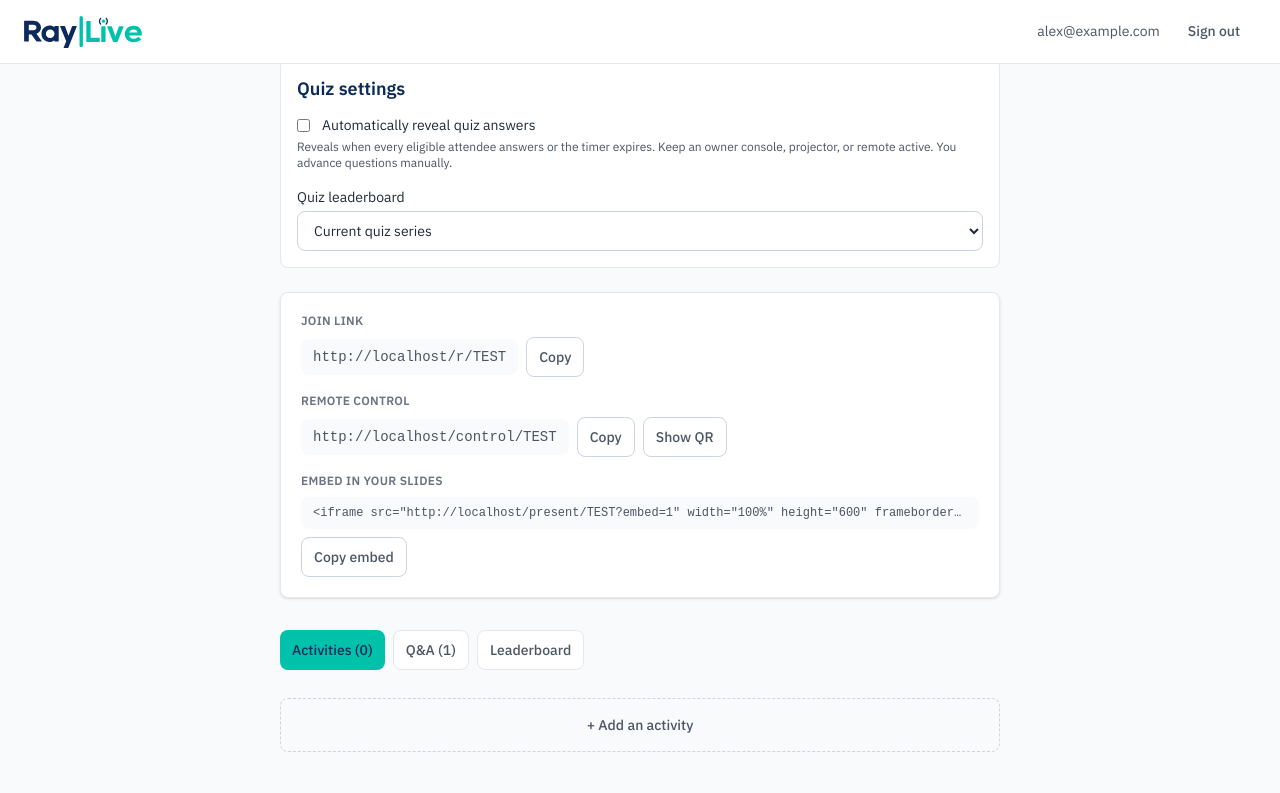
Test case: management shell › confirms Q&A question and vote deletion
(page scrolled)
Click the button "Q&A (1)": (431, 650) [393, 630, 469, 670]
(page scrolled)
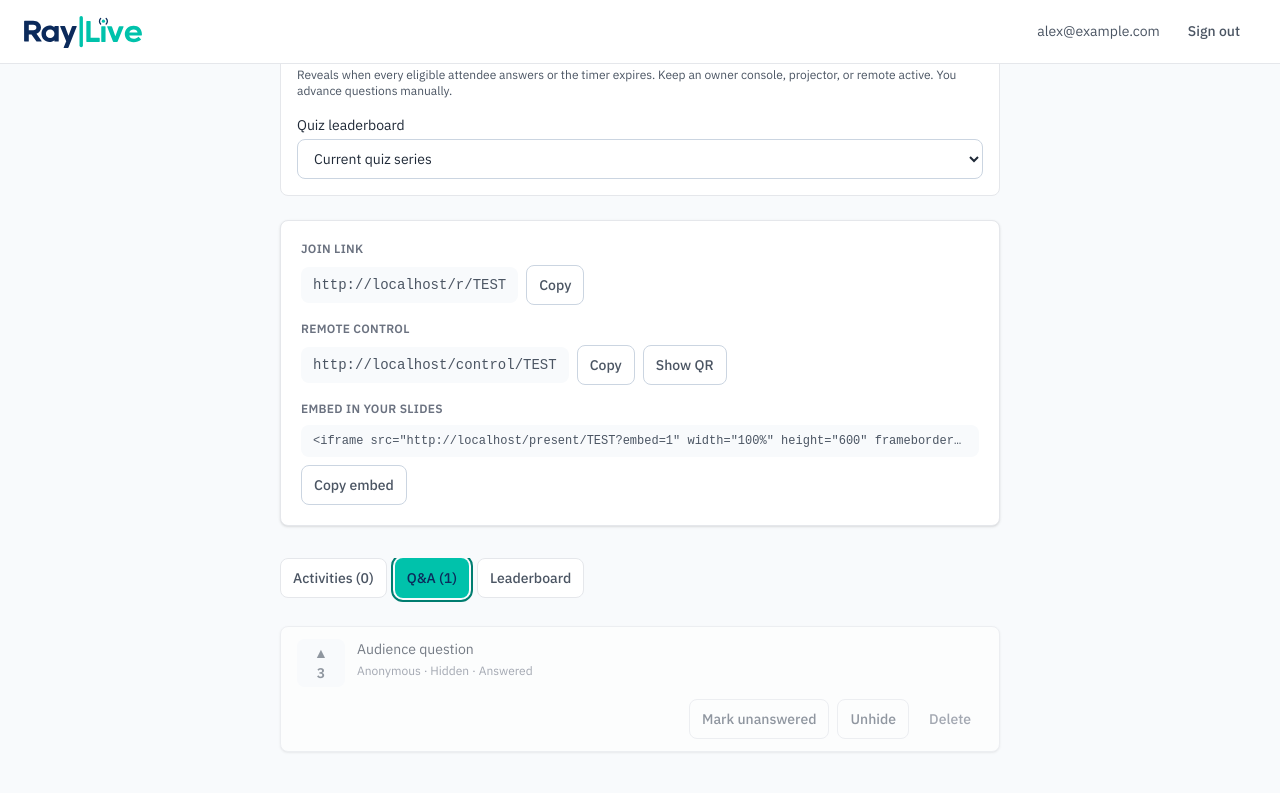
Click the button "Delete": (950, 719) [917, 699, 983, 739]
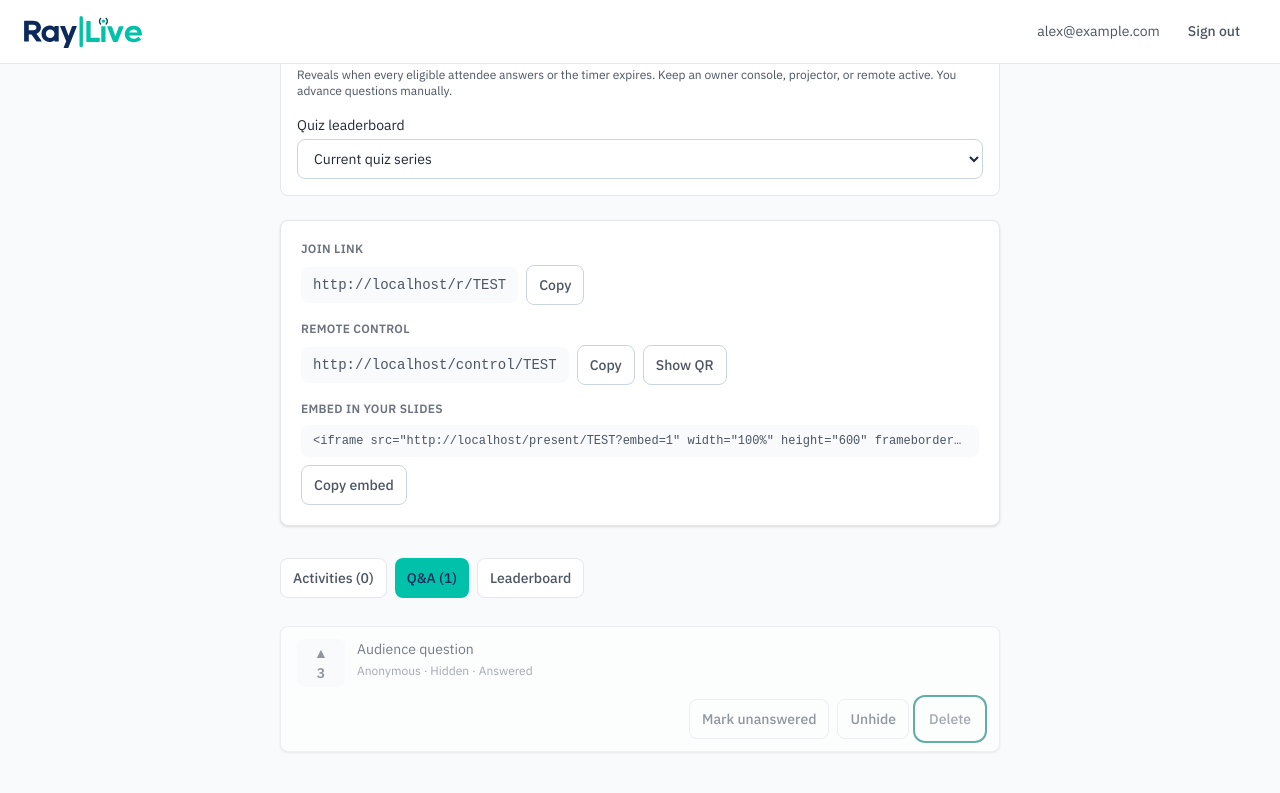
Click the button "Delete": (950, 719) [917, 699, 983, 739]
(page scrolled)
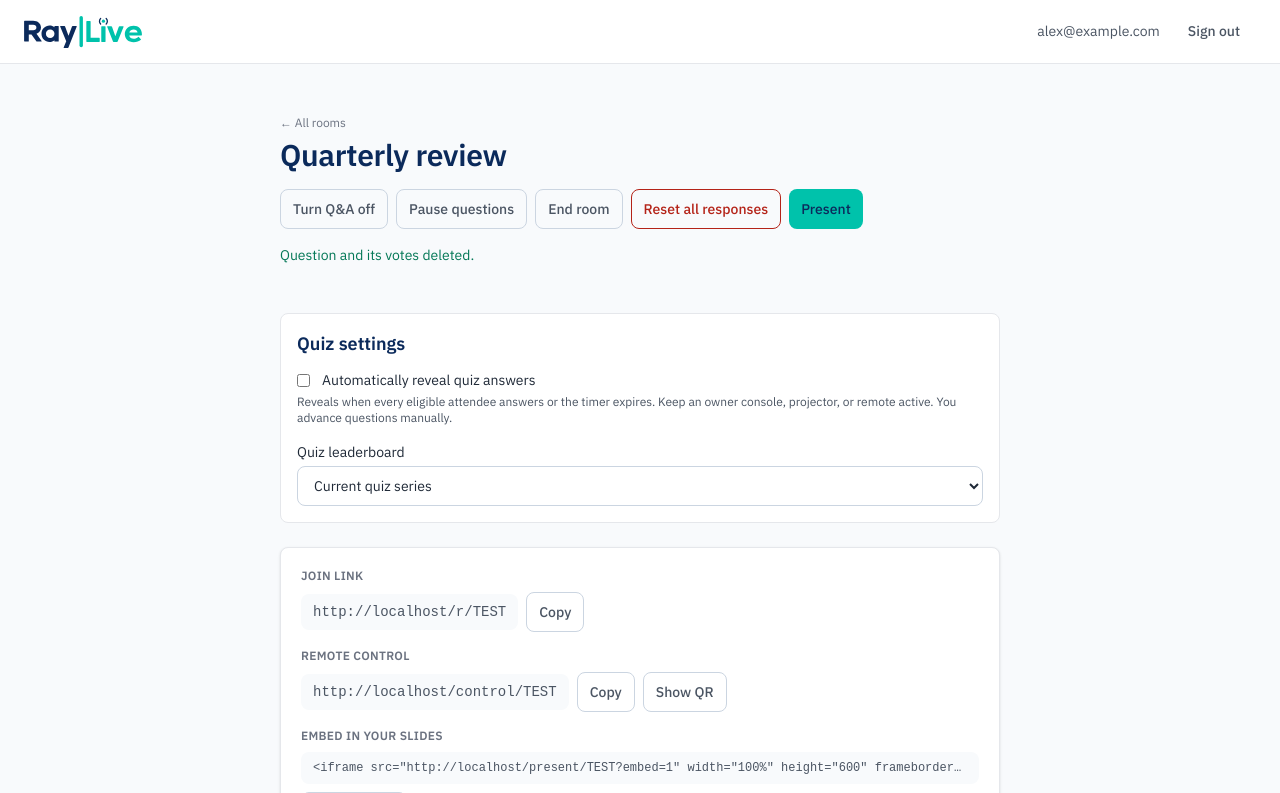
expect the message shows "Question and its votes deleted": met, box [280, 246, 474, 264]
